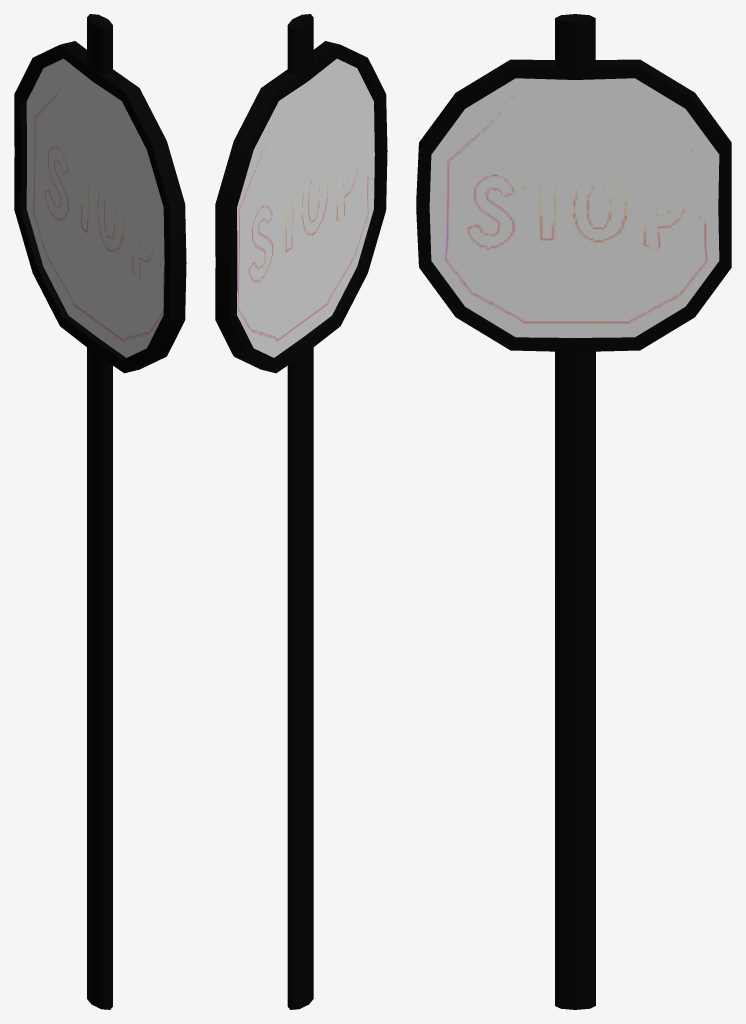
Rendered from sign34.FBX.
3 views of the same model, side by side, from view 1: azimuth 30°, elevation 25°; view 2: azimuth 150°, elevation 25°; view 3: azimuth 270°, elevation 25° (orthographic).
Visible parts, largest first — view 1: Cylinder002; view 2: Cylinder002; view 3: Cylinder002.
Part boxes in pixels (x1,y1,x2,y2): Cylinder002: (14, 14, 186, 1009); Cylinder002: (215, 14, 387, 1009); Cylinder002: (416, 14, 731, 1009).
Size of the model in its own units: 0.6259 by 34.93 by 10.11.
